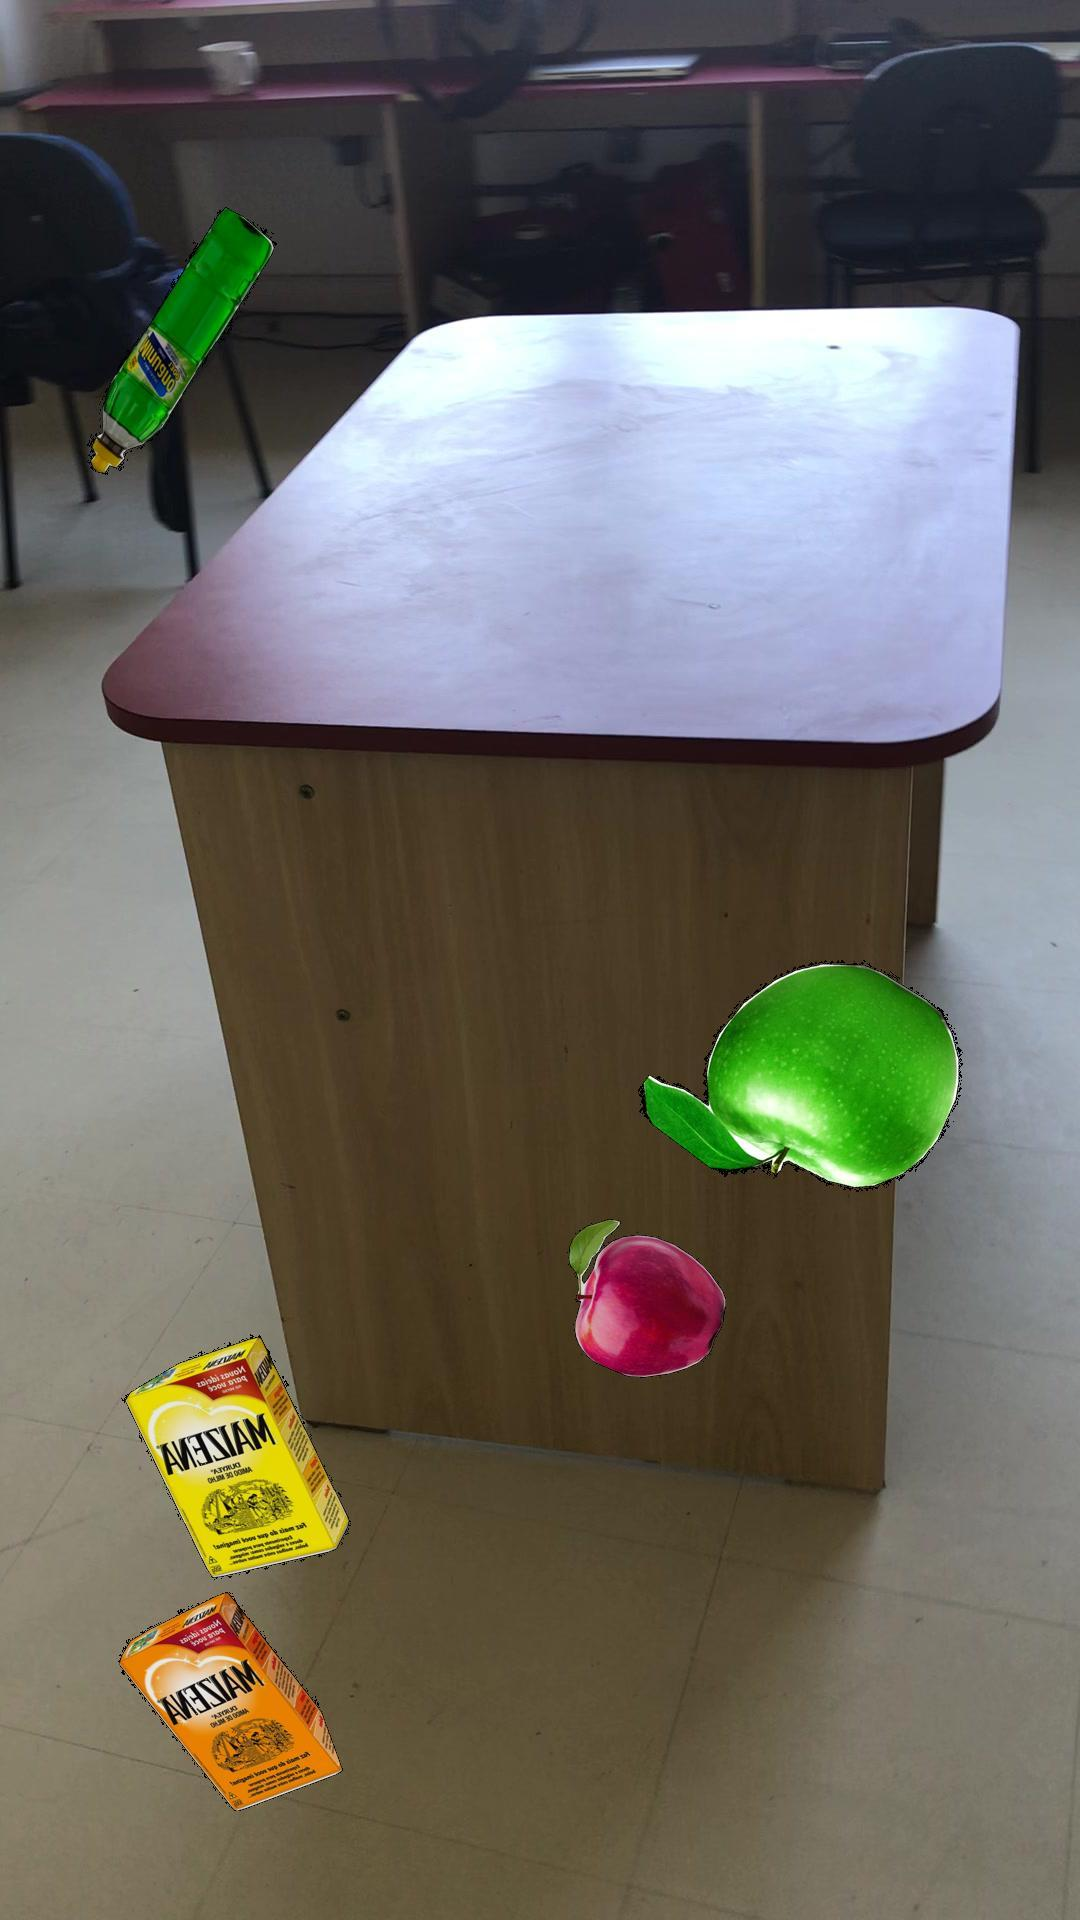apple: (567, 1217, 724, 1377)
cleaner: (86, 206, 276, 473)
green apple: (637, 960, 960, 1189)
